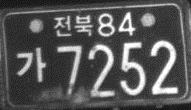2: (149, 39, 178, 95), (87, 44, 116, 98)
4: (117, 10, 135, 35)
5: (119, 40, 146, 96)
7: (55, 44, 83, 97)
8: (97, 12, 114, 37)
가: (15, 46, 46, 83)
전북_O: (53, 14, 93, 37)
